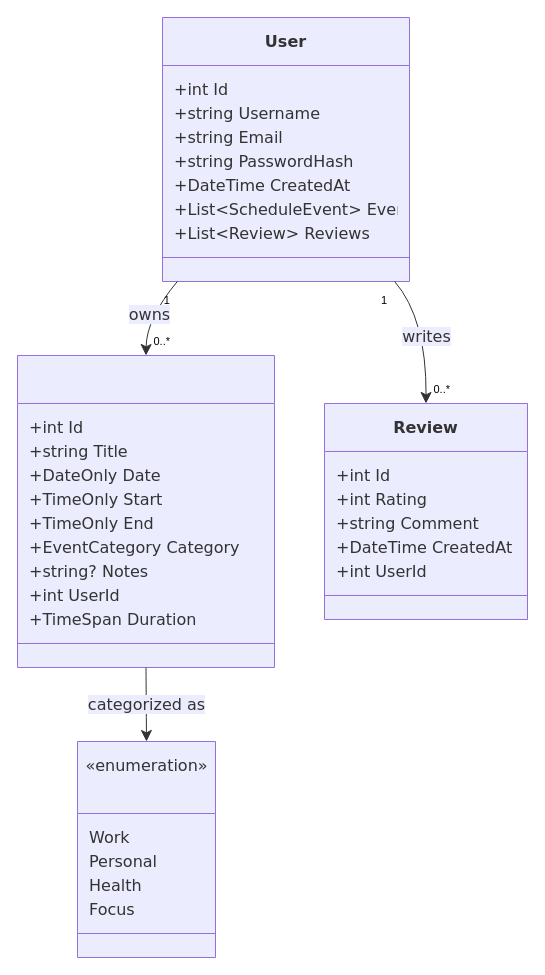
Some shapes in this 545 by 975 pixel diagram are drawn without their labels. Each missing label, with the box of its shape:
EventCategory: (76, 740, 216, 958)
ScheduleEvent: (16, 354, 274, 668)
